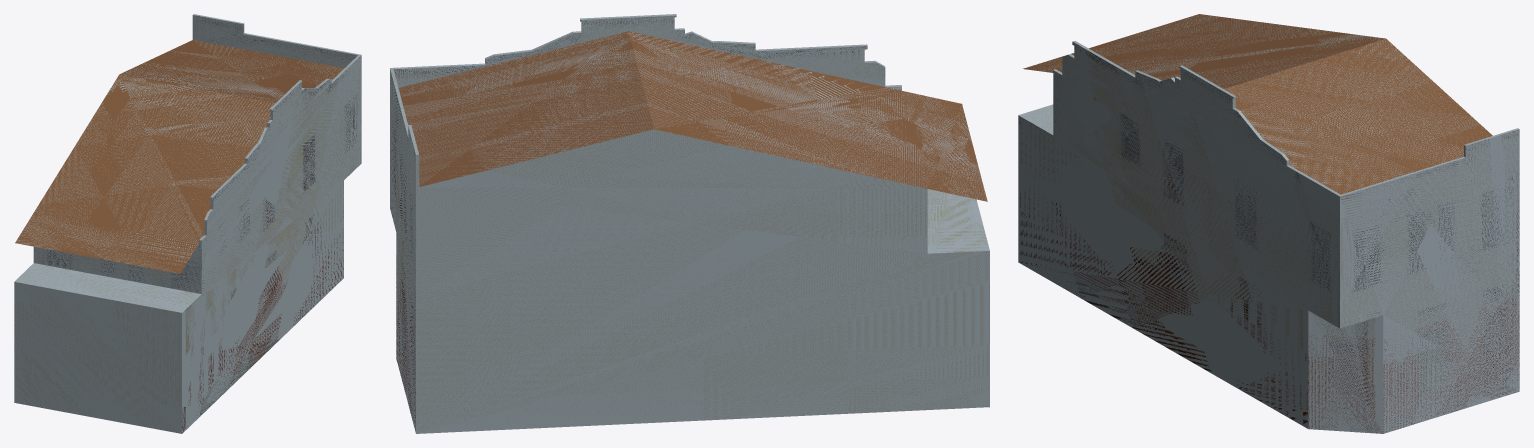
File: Casa dos.fbx
3 renders of one model, left to right at view 1: azimuth 30°, elevation 25°; view 2: azimuth 150°, elevation 25°; view 3: azimuth 270°, elevation 25°, orthographic. The views are drawn at different scales.
Parts seen in each view (by area): view 1: Model; view 2: Model; view 3: Model.
Boxes of the visible parts, x1=… form: Model: x1=14, y1=14, x2=361, y2=433; Model: x1=390, y1=14, x2=989, y2=433; Model: x1=1018, y1=14, x2=1519, y2=433.
Bounding box in the file's own units: 686 × 384 × 604.
